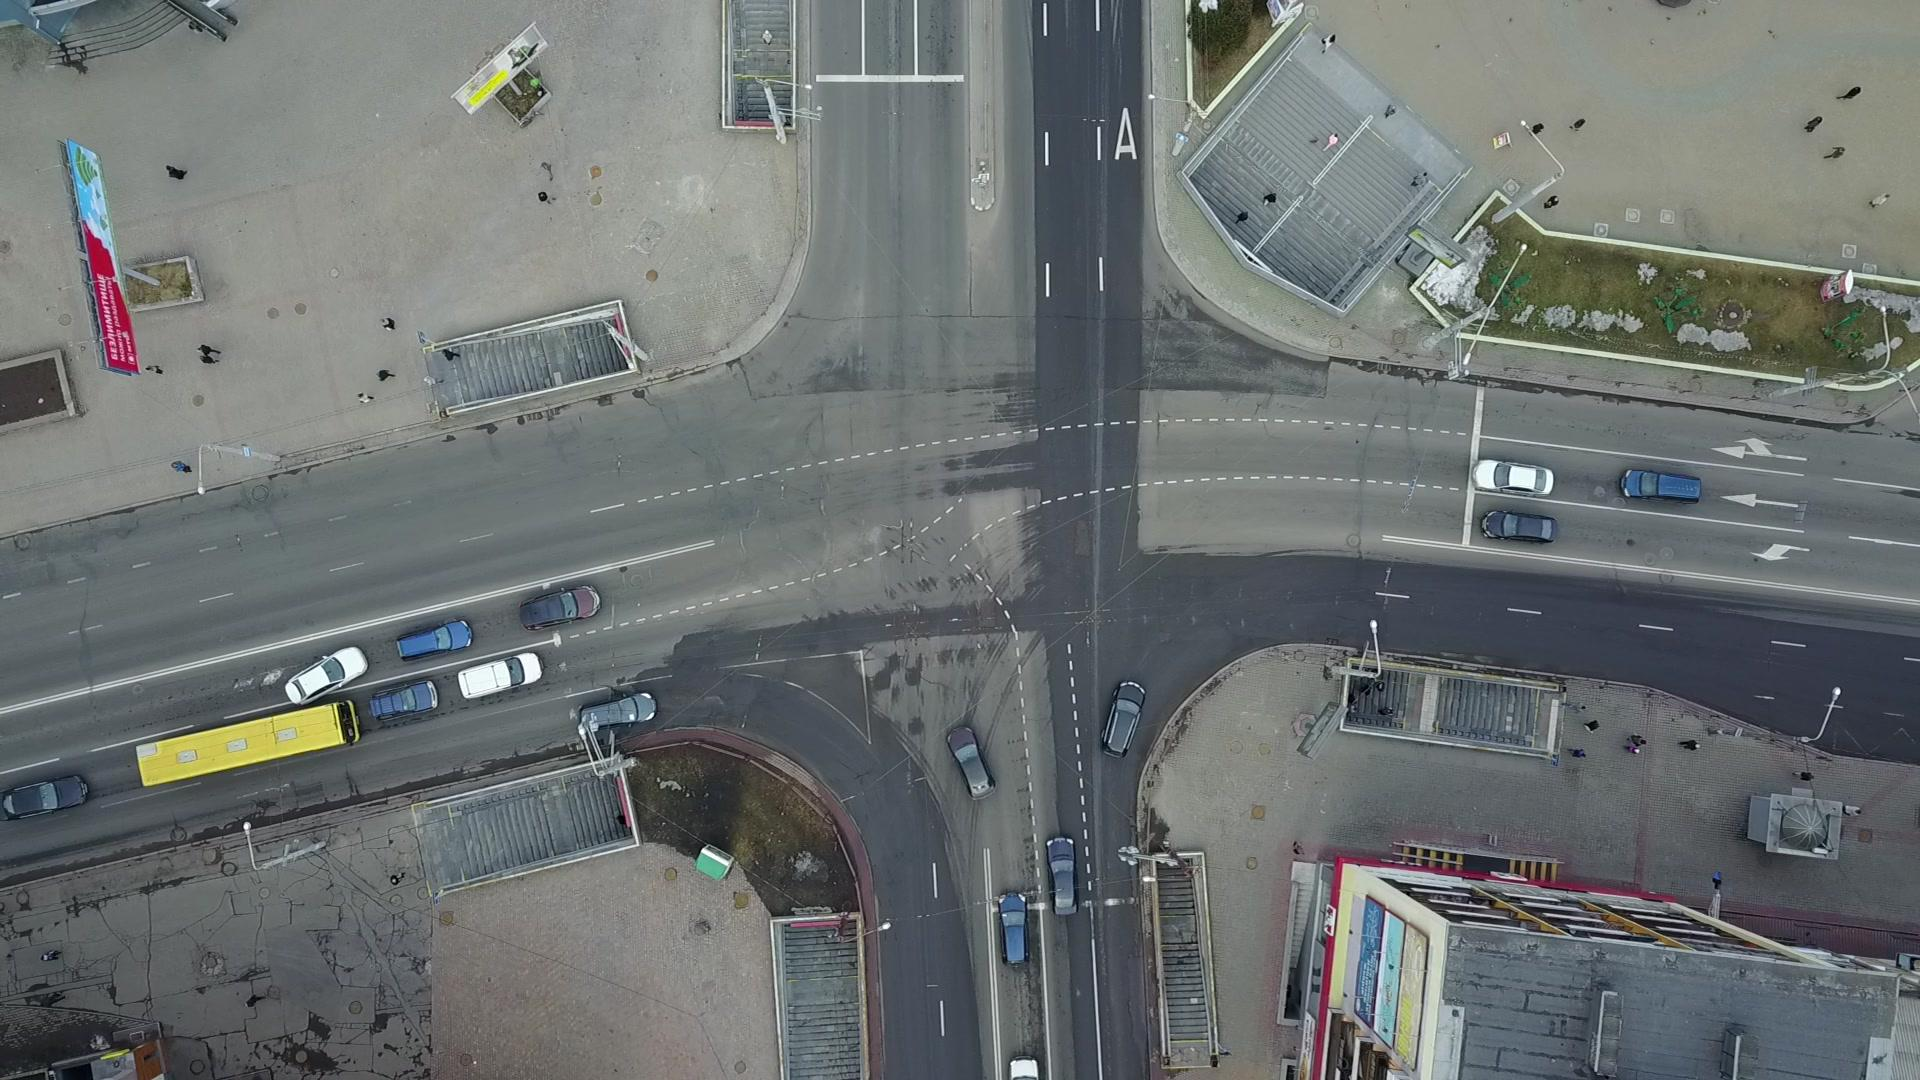car: (284, 642, 367, 708), (3, 771, 91, 825), (512, 579, 603, 630), (452, 651, 546, 699), (393, 611, 473, 665), (942, 724, 996, 800), (1097, 680, 1149, 760), (361, 676, 440, 727), (1466, 456, 1557, 498), (578, 690, 657, 733), (1618, 465, 1701, 506), (1480, 508, 1559, 549), (1044, 833, 1081, 918), (996, 889, 1033, 968)
